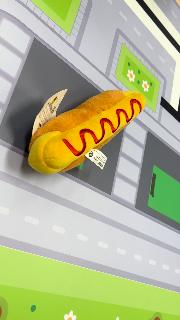hotdog: (28, 89, 146, 175)
